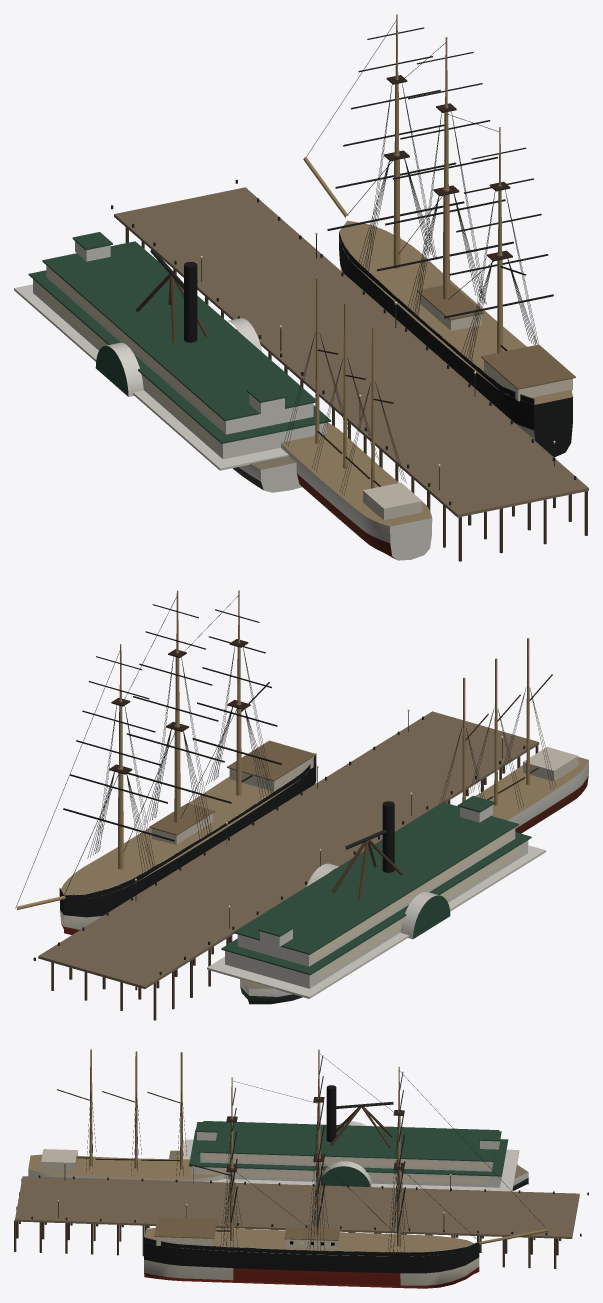
Rendered from hydePier_lod0.glb.
3 renders of one model, top to bottom at view 1: azimuth 30°, elevation 25°; view 2: azimuth 150°, elevation 25°; view 3: azimuth 270°, elevation 25°, orthographic. The views are drawn at different scales.
Visible parts, largest first — view 1: L0_wood, L0_paint, L0_metal, L0_shop; view 2: L0_wood, L0_paint, L0_metal, L0_shop; view 3: L0_wood, L0_paint, L0_metal, L0_shop.
Part boxes in pixels (left/top/right/bottom): L0_wood: left=114, top=14, right=588, bottom=561; L0_paint: left=14, top=231, right=573, bottom=560; L0_metal: left=111, top=20, right=576, bottom=505; L0_shop: left=40, top=267, right=223, bottom=447; L0_wood: left=16, top=590, right=588, bottom=1020; L0_paint: left=59, top=747, right=588, bottom=1004; L0_metal: left=15, top=595, right=555, bottom=990; L0_shop: left=312, top=830, right=518, bottom=978; L0_wood: left=14, top=1049, right=579, bottom=1268; L0_paint: left=28, top=1085, right=528, bottom=1288; L0_metal: left=31, top=1054, right=588, bottom=1252; L0_shop: left=204, top=1154, right=487, bottom=1184.
Size of the model in its own units: 74.87 by 59.3 by 134.
